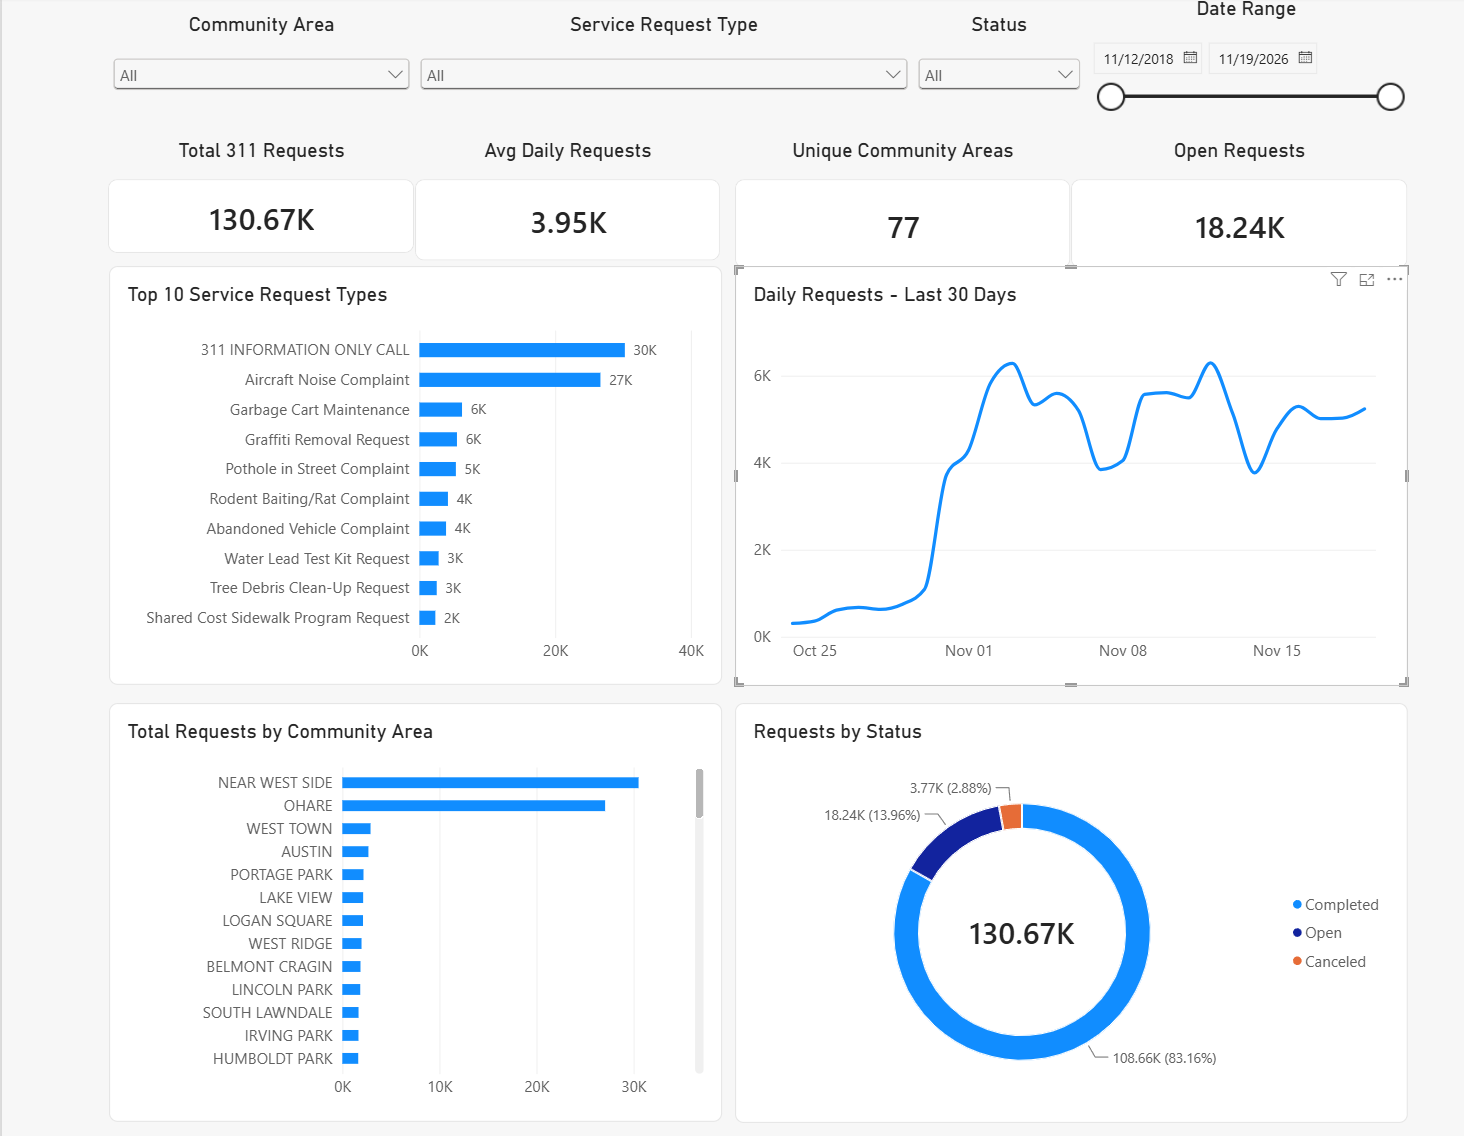

The dashboard page shown, as its layout file describes it:
{"tool":"powerbi","page":{"name":"Page 1","canvas":[1920,1080],"ordinal":0},"visuals":[{"type":"cardVisual","title":"Total 311 Requests","fields":{"Data":["DAILY_REQUEST_METRICS.Total Requests Created"]},"box":[97.9,130.9,283,105.8],"z":0},{"type":"lineChart","title":"Daily Requests - Last 30 Days","fields":{"Category":["DIM_DATE.CALENDAR_DATE"],"Y":["DAILY_REQUEST_METRICS.Total Requests Created"]},"box":[675.2,248,620.2,386.6],"z":1},{"type":"clusteredBarChart","title":"Top 10 Service Request Types","fields":{"Category":["DIM_SERVICE_TYPE.SR_TYPE"],"Y":["DAILY_REQUEST_METRICS.Total Requests Created"]},"box":[98.2,248,565.2,386.3],"z":3},{"type":"clusteredBarChart","title":"Total Requests by Community Area","fields":{"Category":["COMMUNITY_AREAS.COMMUNITY_AREA_NAME"],"Y":["DAILY_REQUEST_METRICS.Total Requests Created"]},"box":[98.2,650.6,565.1,385.5],"z":4},{"type":"donutChart","title":"Requests by Status","fields":{"Category":["FACT_SERVICE_REQUEST.STATUS"],"Y":["Count(FACT_SERVICE_REQUEST.SR_NUMBER)"]},"box":[675.2,650.6,620,387],"z":5},{"type":"cardVisual","title":"Open Requests","fields":{"Data":["Count(FACT_SERVICE_REQUEST.SR_NUMBER)"]},"box":[985.1,130.9,310.7,119],"z":6},{"type":"cardVisual","title":"Unique Community Areas","fields":{"Data":["Count(COMMUNITY_AREAS.COMMUNITY_AREA_NAME)"]},"box":[675.7,130.9,309.4,119],"z":7},{"type":"cardVisual","title":"Avg Daily Requests","fields":{"Data":["DAILY_REQUEST_METRICS.Average Daily Requests"]},"box":[380.8,130.9,281.7,112.4],"z":8},{"type":"slicer","title":"Community Area","fields":{"Values":["COMMUNITY_AREAS.COMMUNITY_AREA_NAME"]},"box":[97.9,14.5,283,116.4],"z":9},{"type":"slicer","title":"Service Request Type","fields":{"Values":["DIM_SERVICE_TYPE.SR_TYPE"]},"box":[380.8,14.5,458.8,91.2],"z":10},{"type":"slicer","title":"Status","fields":{"Values":["FACT_SERVICE_REQUEST.STATUS"]},"box":[839.7,14.5,158.7,86],"z":11},{"type":"slicer","title":"Date Range","fields":{"Values":["DIM_DATE.CALENDAR_DATE"]},"box":[998.3,0,297.5,120.3],"z":12}]}

Visuals, with their boxes on the page's 1920x1080 design canvas (x1, y1, x2, y2). These are canvas units, not pixel positions in the 1464x1136 screenshot, which may show the page scaled, cropped or inside an application window:
"Total 311 Requests" cardVisual: [98, 131, 381, 237]
"Daily Requests - Last 30 Days" lineChart: [675, 248, 1295, 635]
"Top 10 Service Request Types" clusteredBarChart: [98, 248, 663, 634]
"Total Requests by Community Area" clusteredBarChart: [98, 651, 663, 1036]
"Requests by Status" donutChart: [675, 651, 1295, 1038]
"Open Requests" cardVisual: [985, 131, 1296, 250]
"Unique Community Areas" cardVisual: [676, 131, 985, 250]
"Avg Daily Requests" cardVisual: [381, 131, 662, 243]
"Community Area" slicer: [98, 14, 381, 131]
"Service Request Type" slicer: [381, 14, 840, 106]
"Status" slicer: [840, 14, 998, 100]
"Date Range" slicer: [998, 0, 1296, 120]
